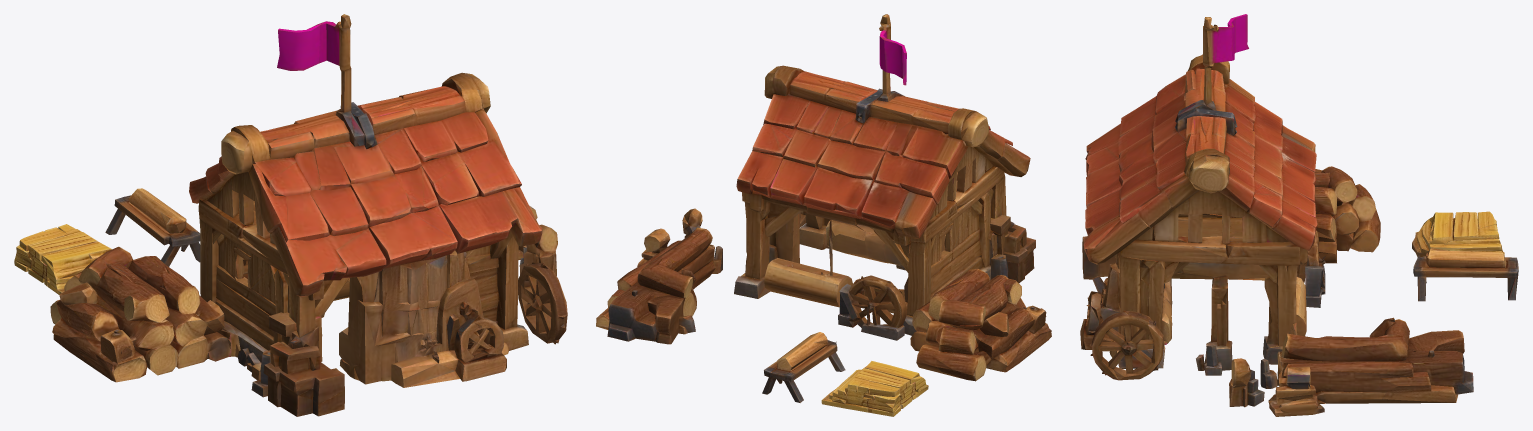
Rendered from sawmill.glb.
3 views of the same model, side by side, from view 1: azimuth 30°, elevation 25°; view 2: azimuth 150°, elevation 25°; view 3: azimuth 270°, elevation 25° (orthographic). The views are drawn at different scales.
Visible parts, largest first — view 1: Mesh_0; view 2: Mesh_0; view 3: Mesh_0.
Part boxes in pixels (<box>): Mesh_0: <box>14,14,567,416</box>; Mesh_0: <box>596,14,1051,416</box>; Mesh_0: <box>1080,14,1518,416</box>.
Size of the model in its own units: 1.91 by 1.28 by 1.74.
Materials: 1 (1 with a texture image).
